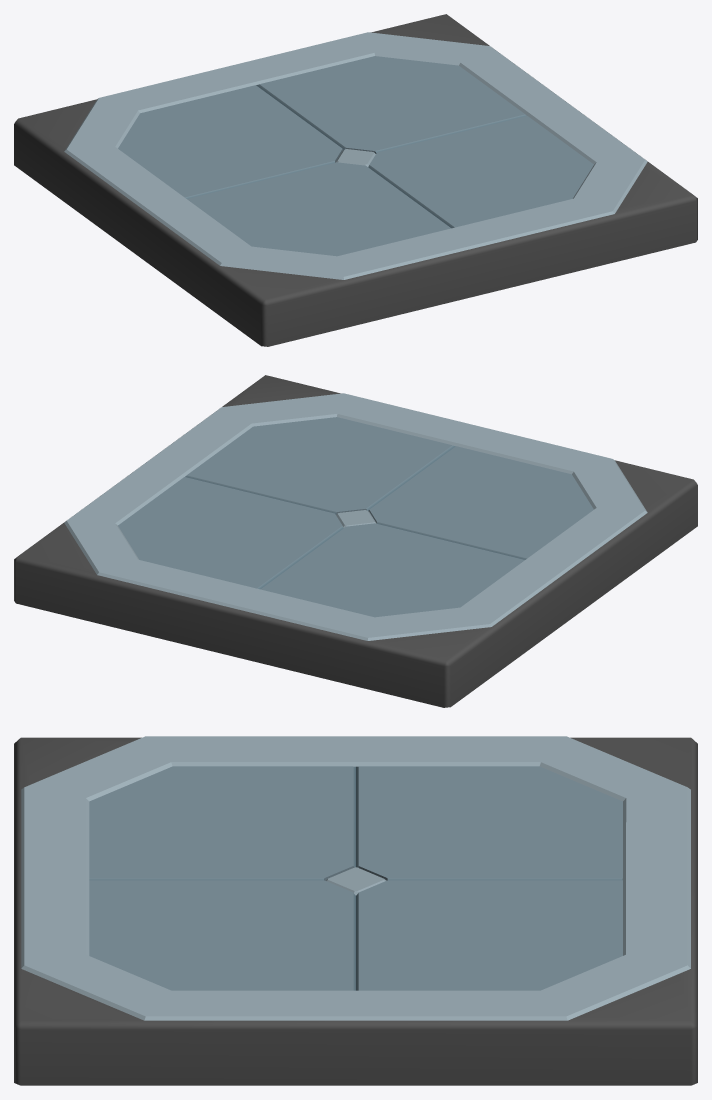
Rendered from platform_001.fbx.
The picture shows the model from 3 angles, top to bottom: view 1: azimuth 30°, elevation 25°; view 2: azimuth 150°, elevation 25°; view 3: azimuth 270°, elevation 25°; orthographic projection. The views are drawn at different scales.
Visible parts, largest first — view 1: platform_001; view 2: platform_001; view 3: platform_001.
Part boxes in pixels (bbox=[...]): platform_001: bbox=[14, 14, 697, 346]; platform_001: bbox=[14, 375, 697, 707]; platform_001: bbox=[14, 736, 697, 1085].
Bounding box in the file's own units: 1000 × 1000 × 105.
